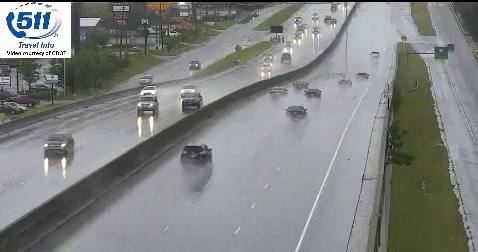car: (181, 143, 211, 164), (284, 106, 307, 120), (269, 86, 288, 99), (303, 88, 321, 100), (294, 81, 308, 91)
